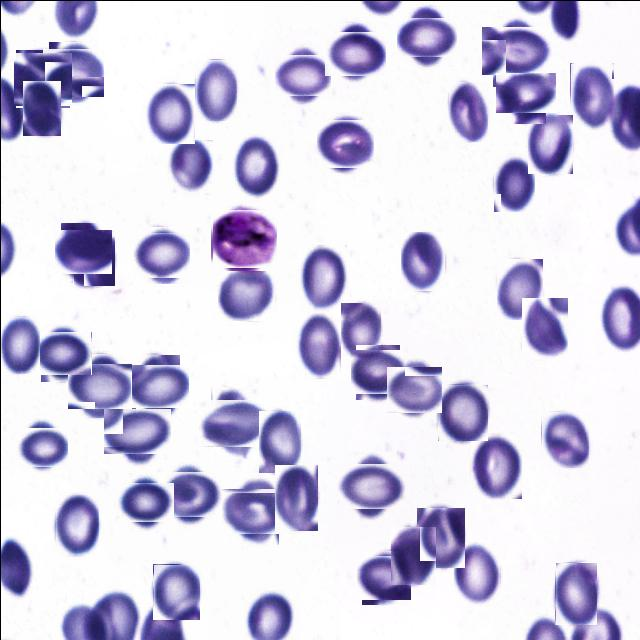difficult: (212, 207, 274, 270)
red blood cell: (204, 392, 264, 452), (486, 20, 546, 80), (342, 456, 400, 514), (108, 402, 166, 459), (470, 434, 521, 498), (298, 244, 346, 312), (226, 482, 284, 538), (14, 50, 70, 106), (45, 44, 100, 99), (415, 506, 464, 567), (72, 358, 126, 413), (296, 311, 340, 378), (569, 62, 613, 129), (162, 466, 216, 520), (146, 83, 194, 143), (130, 358, 183, 412), (521, 298, 567, 360), (437, 383, 487, 440), (217, 270, 274, 320), (274, 464, 317, 530), (454, 541, 499, 604), (318, 116, 370, 170), (328, 26, 380, 80), (496, 258, 542, 319), (232, 137, 279, 196), (540, 410, 588, 467), (389, 525, 435, 584), (135, 228, 187, 280), (54, 493, 98, 554), (527, 114, 572, 173), (36, 327, 88, 378), (554, 561, 596, 624), (152, 563, 199, 619), (194, 58, 236, 120), (258, 410, 300, 472), (56, 226, 108, 276), (400, 231, 444, 290), (500, 67, 550, 118), (401, 11, 451, 61), (352, 346, 402, 396), (388, 364, 438, 414), (359, 552, 408, 602), (447, 80, 487, 141), (492, 154, 534, 212), (278, 50, 327, 99), (120, 476, 168, 526), (168, 140, 212, 193), (72, 230, 114, 285), (0, 315, 39, 373), (18, 424, 64, 471), (340, 302, 380, 356), (23, 80, 61, 135)
